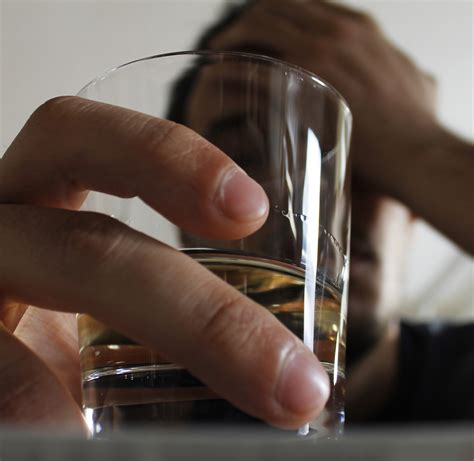alcohol: (42, 55, 353, 439)
